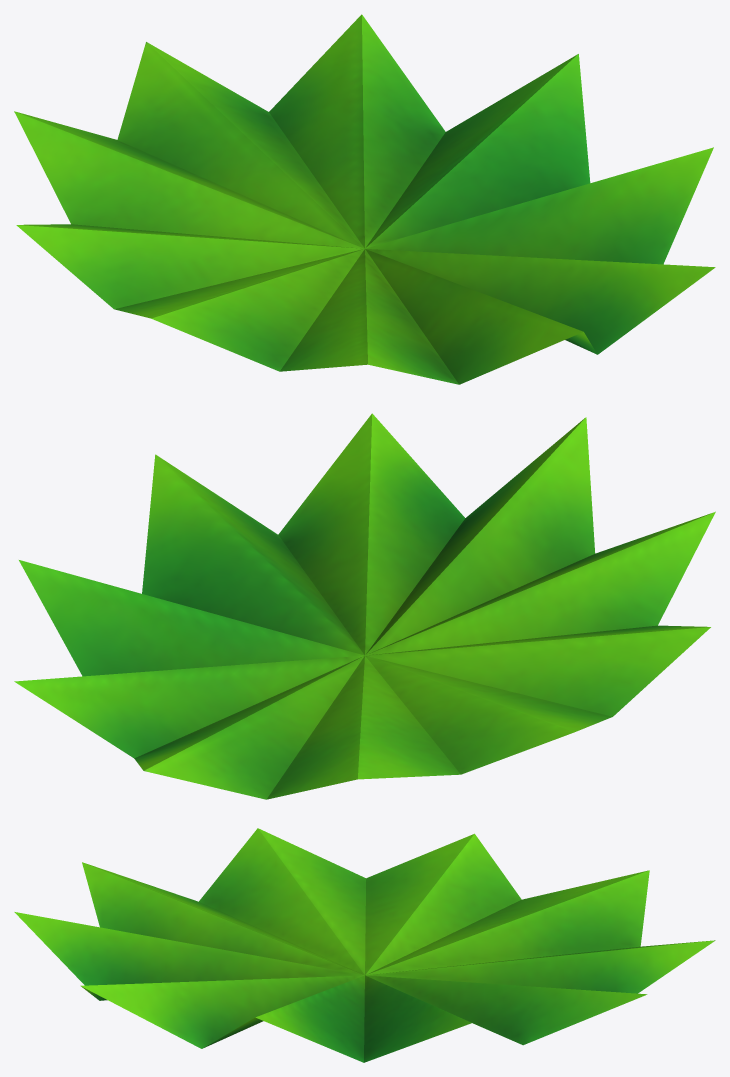
The model's file is lilly_pad.fbx.
3 renders of one model, top to bottom at view 1: azimuth 30°, elevation 25°; view 2: azimuth 150°, elevation 25°; view 3: azimuth 270°, elevation 25°, orthographic. The views are drawn at different scales.
Visible parts, largest first — view 1: pCylinder2; view 2: pCylinder2; view 3: pCylinder2.
Boxes of the visible parts, x1=… form: pCylinder2: x1=14, y1=14, x2=715, y2=384; pCylinder2: x1=14, y1=413, x2=715, y2=799; pCylinder2: x1=14, y1=828, x2=715, y2=1062.
Bounding box in the file's own units: 0.0599 × 0.00852 × 0.0815.
